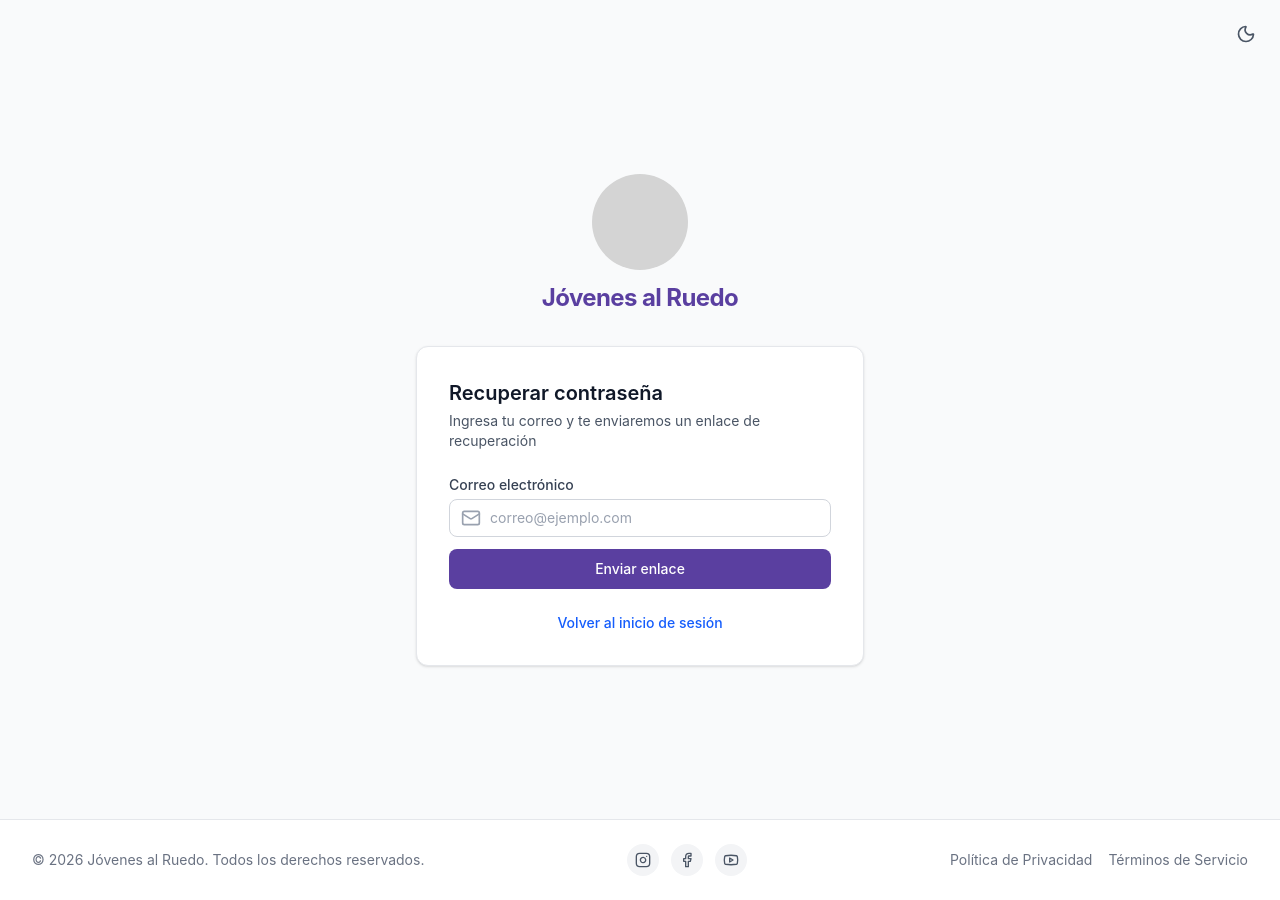
ForgotPasswordPage › muestra error si forgotPassword falla
The width and height of the screenshot is (1280, 900).
Type "test@nn.com" into the field labelled "Correo electrónico". click: (640, 518)
box: [449,498,831,536]
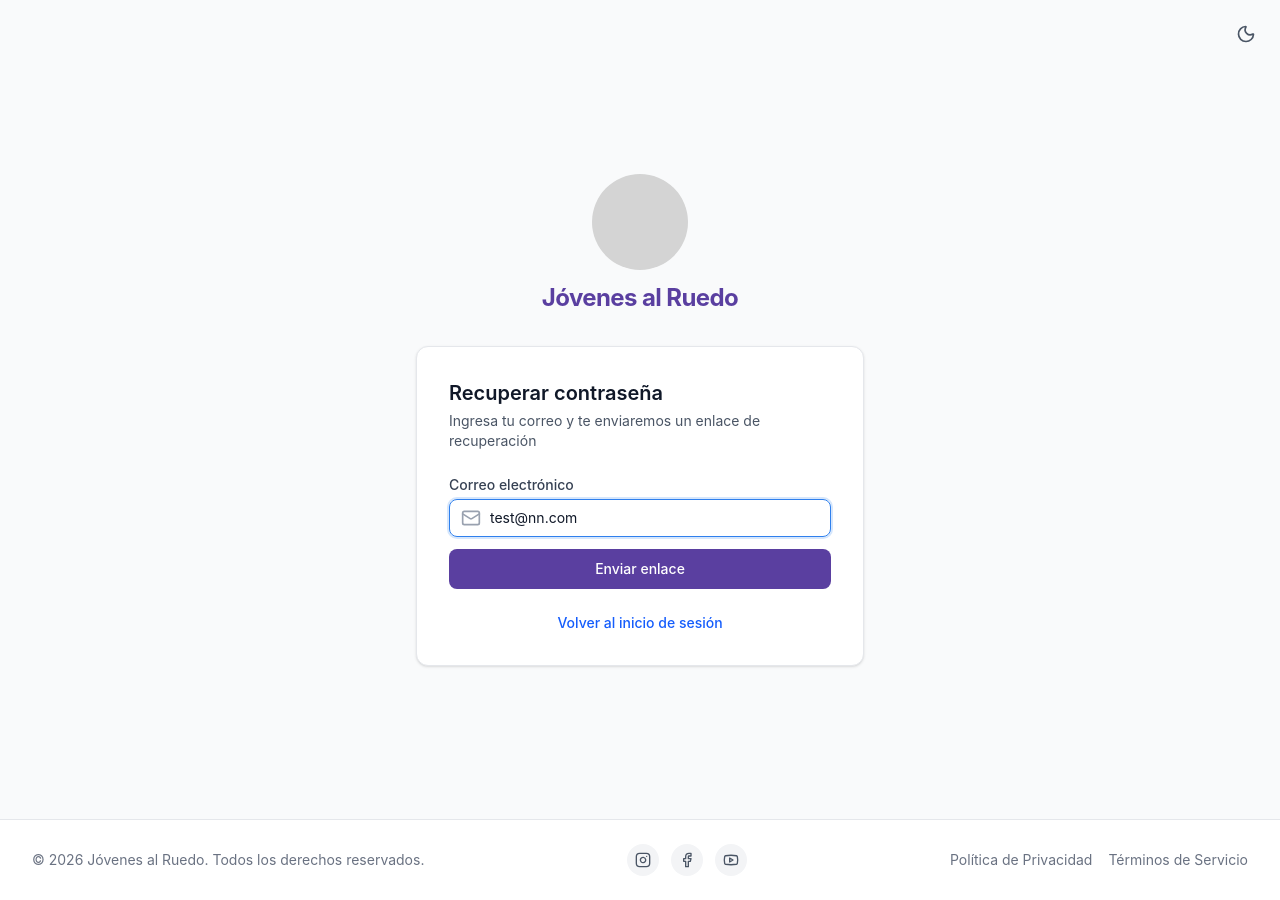
Click the button "Enviar enlace". click: (640, 568)
box: [449,548,831,588]
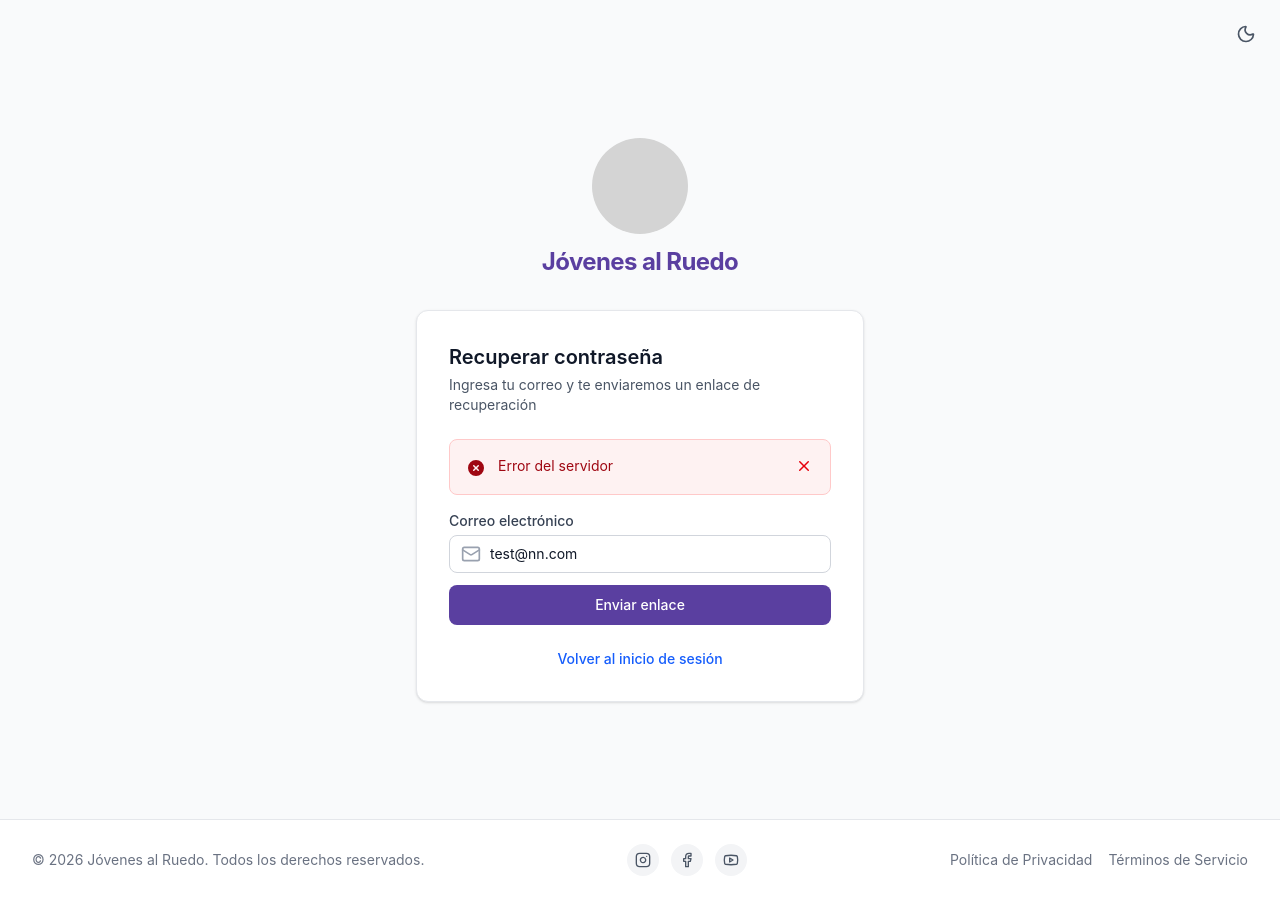
Expected: the text "Error del servidor" is shown, [498,456,613,474]
